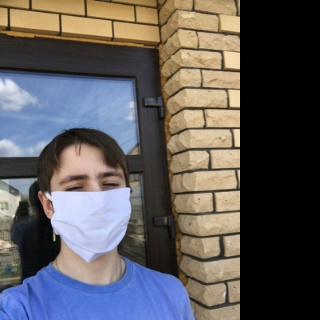with_mask: (45, 158, 131, 264)
